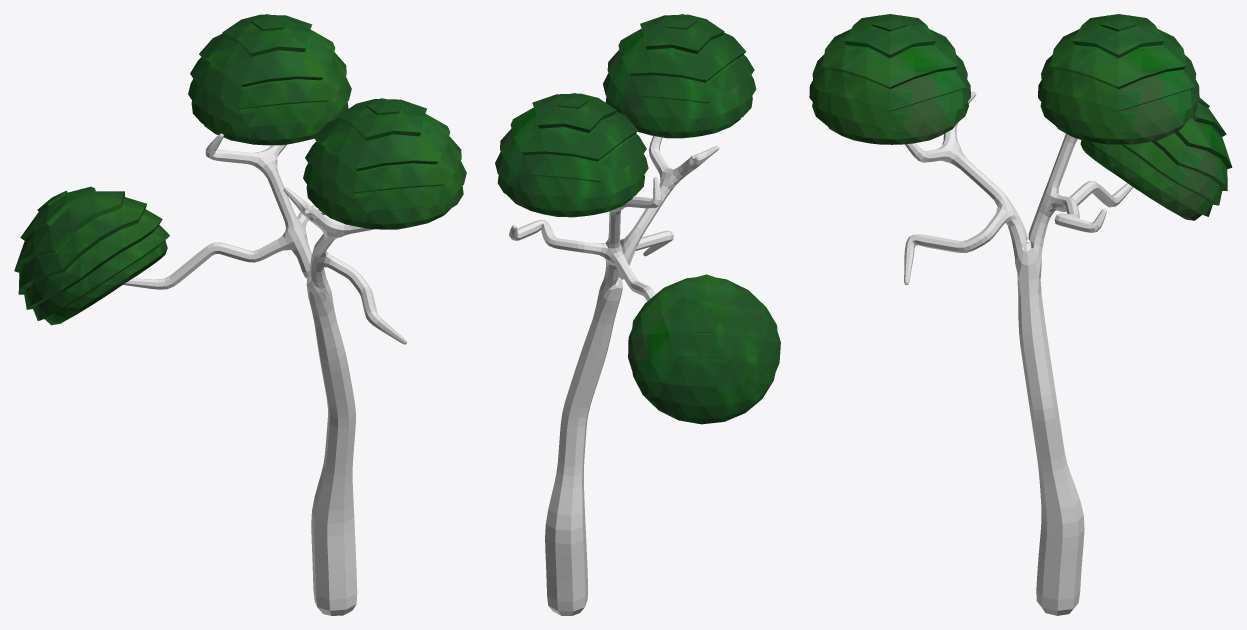
Rendered from Tree3.fbx.
3 views of the same model, side by side, from view 1: azimuth 30°, elevation 25°; view 2: azimuth 150°, elevation 25°; view 3: azimuth 270°, elevation 25° (orthographic). The views are drawn at different scales.
Visible parts, largest first — view 1: Cube, Leaves, Leaves.001, Leaves.002; view 2: Leaves.002, Cube, Leaves.001, Leaves; view 3: Cube, Leaves, Leaves.001, Leaves.002.
Part boxes in pixels (box(x1,y1,x2,y2)): Cube: box(123, 133, 407, 615); Leaves: box(303, 98, 466, 229); Leaves.001: box(188, 14, 351, 145); Leaves.002: box(14, 186, 169, 325); Leaves.002: box(628, 274, 780, 424); Cube: box(509, 136, 719, 615); Leaves.001: box(495, 93, 648, 217); Leaves: box(603, 14, 756, 138); Cube: box(904, 91, 1133, 615); Leaves: box(809, 14, 970, 144); Leaves.001: box(1038, 14, 1199, 144); Leaves.002: box(1080, 97, 1232, 220).
Bounding box in the file's own units: 769 × 1395 × 929.
